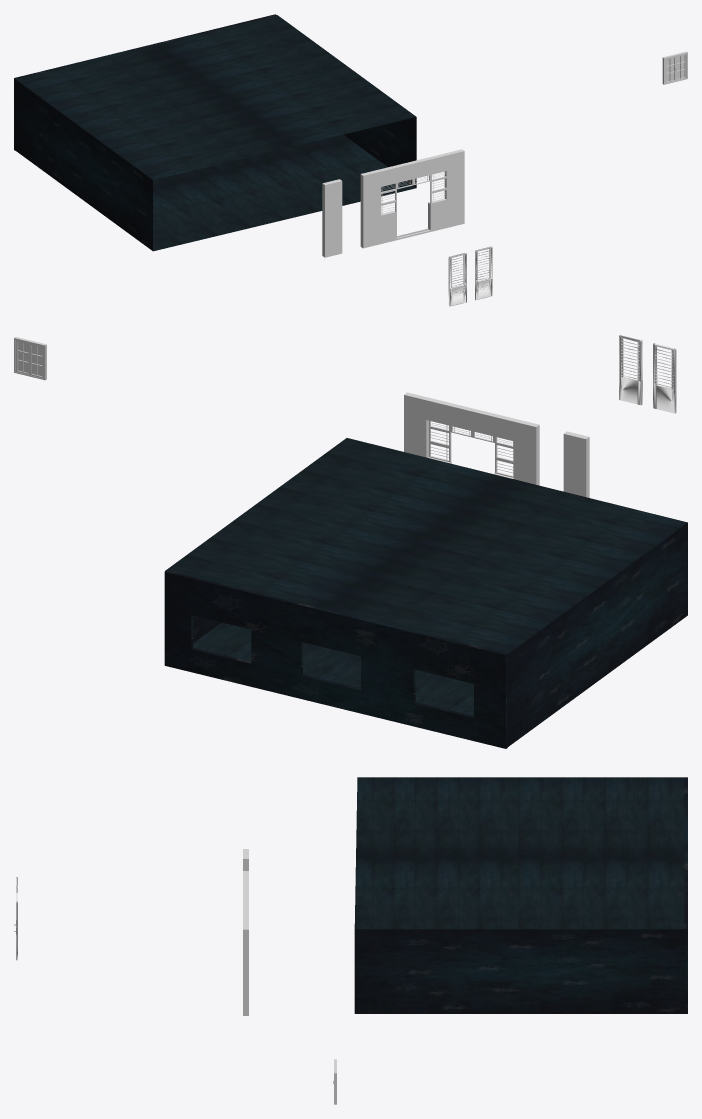
File: Classroom.fbx
The picture shows the model from 3 angles, top to bottom: view 1: azimuth 30°, elevation 25°; view 2: azimuth 150°, elevation 25°; view 3: azimuth 270°, elevation 25°; orthographic projection. The views are drawn at different scales.
Parts seen in each view (by area): view 1: Room, DoorWall, Wall, LeftDoor, RightDoor, Window; view 2: Room, DoorWall, Wall, LeftDoor, RightDoor, Window; view 3: Room, DoorWall.
Part boxes in pixels (x1,y1,x2,y2): Room: (14,14,416,251); DoorWall: (360,149,464,248); Wall: (322,179,342,257); LeftDoor: (448,253,466,306); RightDoor: (475,246,492,300); Window: (662,51,687,84); Room: (164,438,687,748); DoorWall: (404,392,539,485); Wall: (563,431,589,497); LeftDoor: (653,343,676,413); RightDoor: (619,335,642,405); Window: (14,337,46,380); Room: (354,777,687,1013); DoorWall: (243,871,248,1015).
Size of the model in its own units: 6186 by 894 by 5795.
